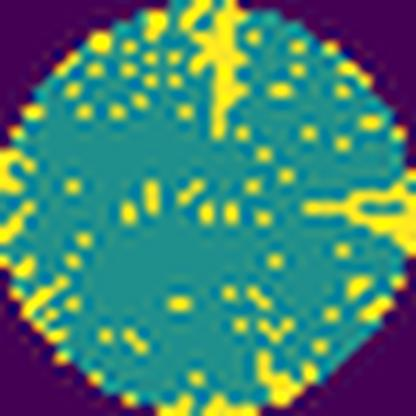Loc: (303, 163, 416, 260), (180, 0, 252, 143), (253, 350, 299, 401)
